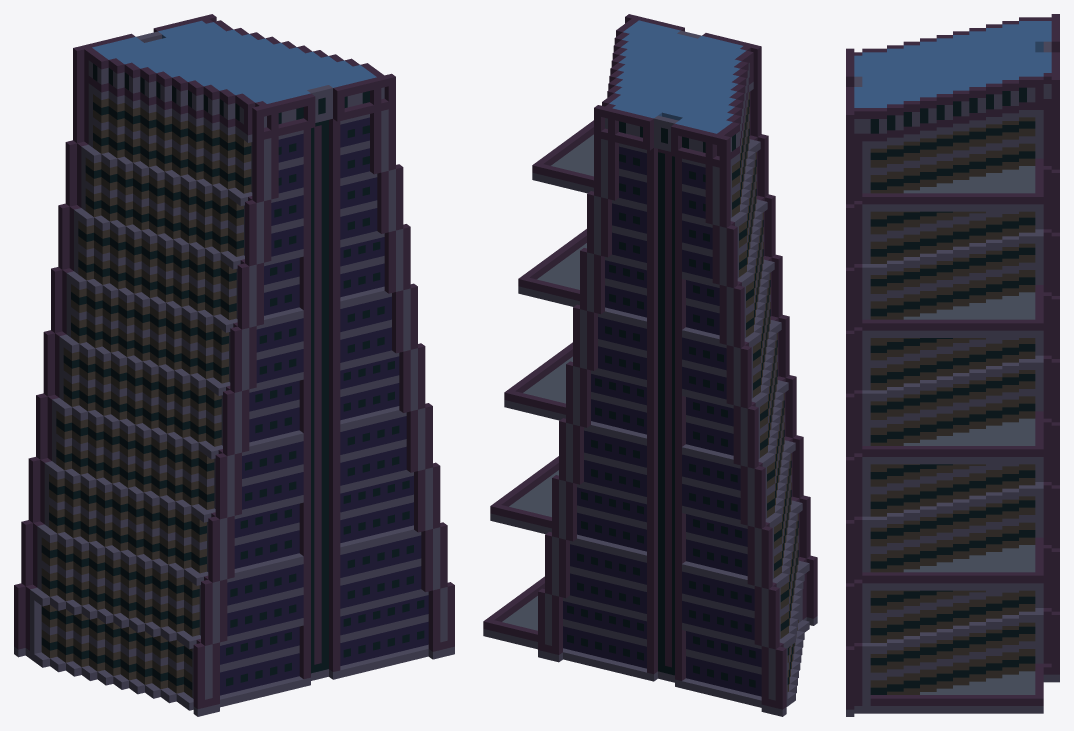
The model's file is skyscraper1-1.obj.
3 renders of one model, left to right at view 1: azimuth 30°, elevation 25°; view 2: azimuth 150°, elevation 25°; view 3: azimuth 270°, elevation 25°, orthographic. The views are drawn at different scales.
Size of the model in its own units: 4.5 by 7.7 by 2.6.
1 material, 1 textured.
